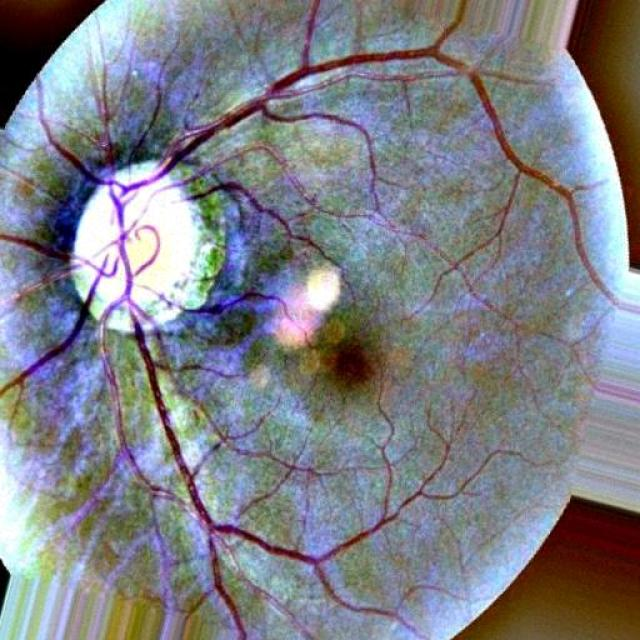Macula: (320, 327, 384, 401)
Nerves: (39, 14, 591, 633)
Optic Disk: (54, 144, 260, 350)
